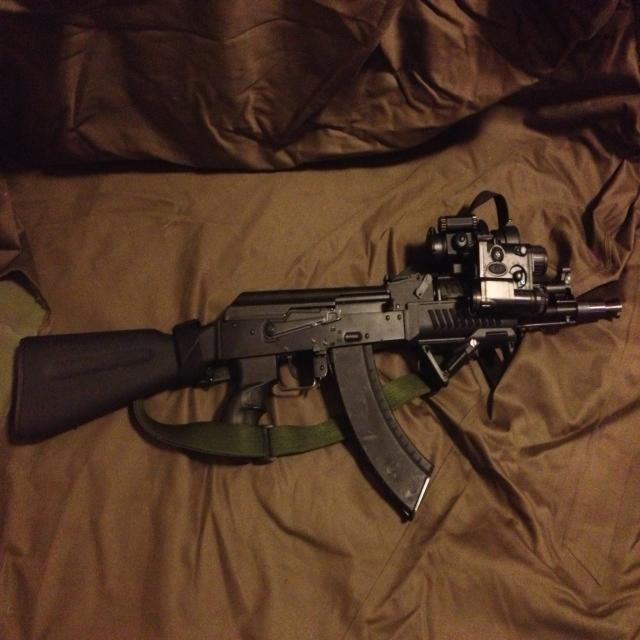firearm: (7, 214, 624, 521)
